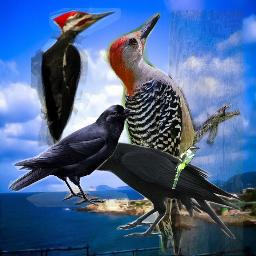Crow: (68, 141, 245, 239), (8, 104, 139, 207)
Cuckoo: (172, 146, 200, 189)
Woodpecker: (99, 10, 243, 255), (31, 8, 121, 149)
